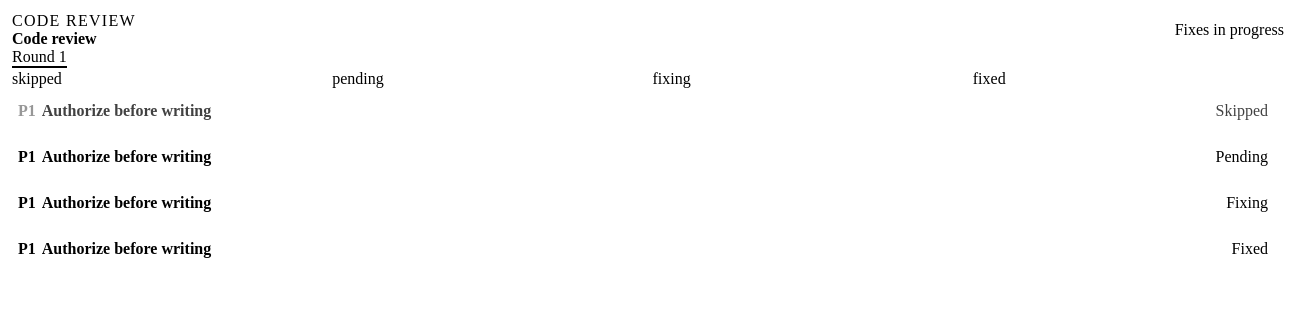
Test: CodeReviewPanel › shows only remediation statuses after the round starts
This screenshot has width=1304, height=329.
Check: the elements with class "review-finding__state" read "Skipped", "Pending", "Fixing", "Fixed", in this order, box left=1216, top=102, right=1268, bottom=119; left=1216, top=148, right=1268, bottom=165; left=1226, top=194, right=1268, bottom=211; left=1232, top=240, right=1268, bottom=257
What coordinates should you click on to do the following:
click the button with class "review-finding__toggle" that starts with "Authorize before writing"
I would click on:
 (127, 110)
Its box is left=12, top=88, right=1292, bottom=134.
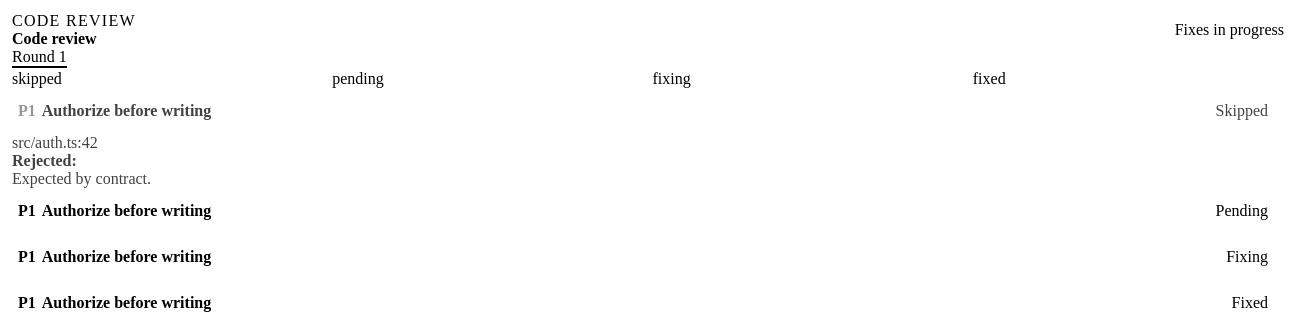
Check: the text "Expected by contract." is shown, box left=12, top=170, right=151, bottom=187
